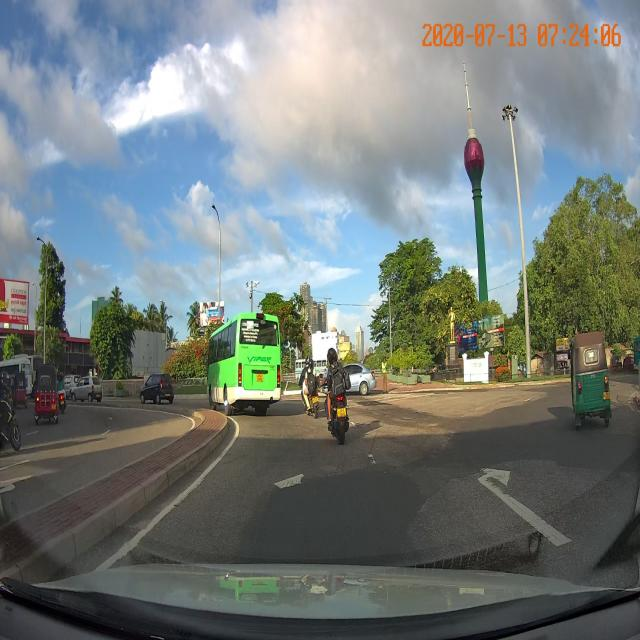Strelka vpravo: (474, 466, 575, 549)
